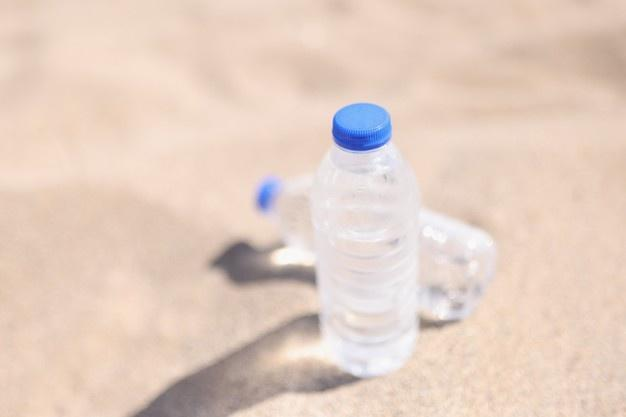bottle: (243, 149, 505, 308), (301, 84, 426, 392)
